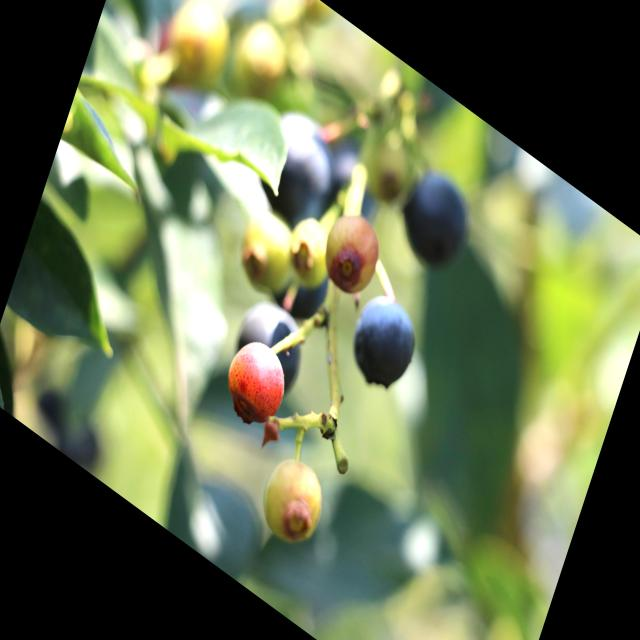blueberry: (254, 107, 343, 235), (345, 283, 424, 401), (397, 163, 476, 273), (233, 288, 309, 390)
blueberry-halfripe: (215, 319, 296, 438)
blueberry-unripe: (257, 445, 331, 556), (316, 197, 389, 308), (234, 198, 301, 296)
